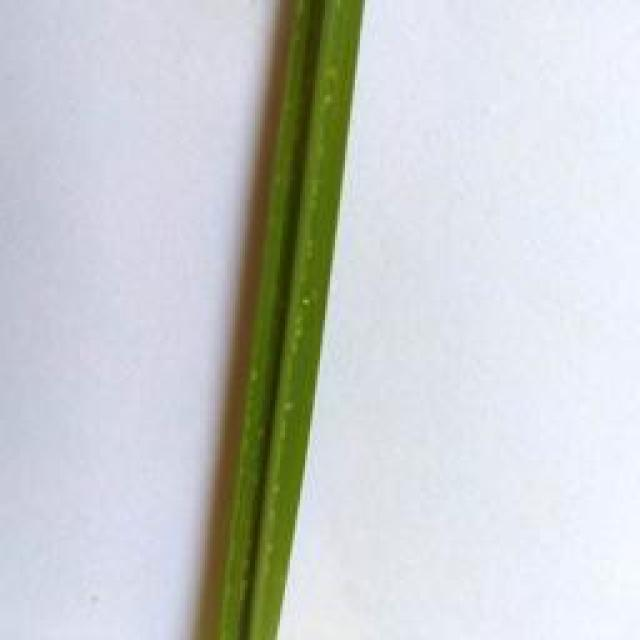Healthy-Plant: (218, 0, 366, 640)
